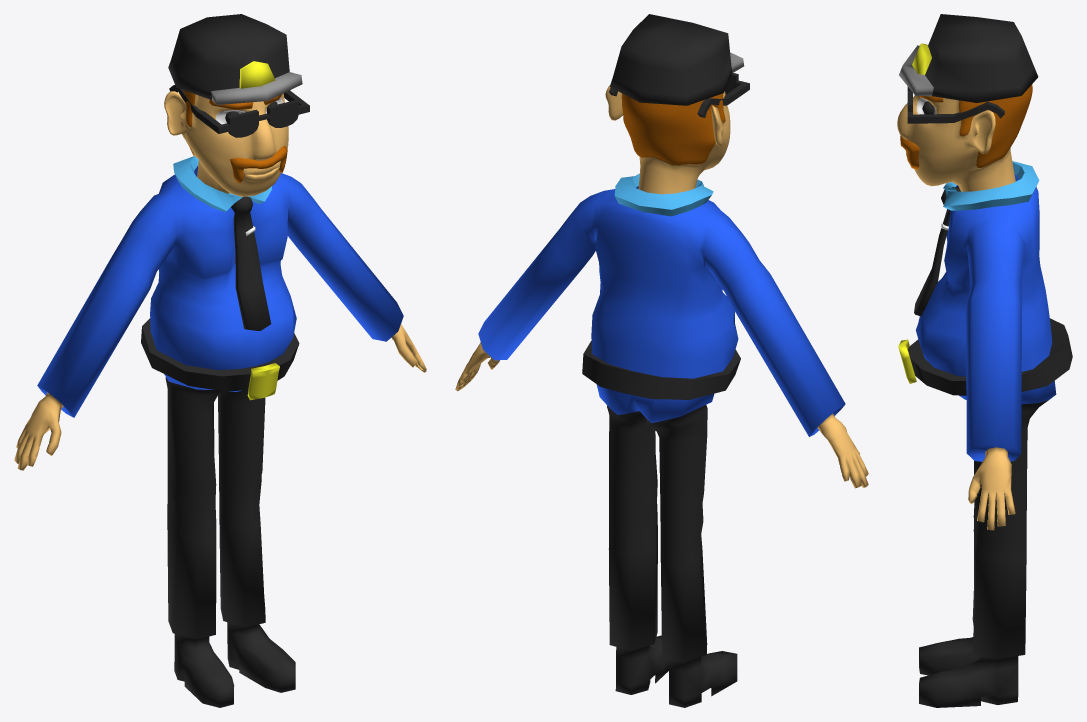
The model's file is Police_Male_6.fbx.
3 renders of one model, left to right at view 1: azimuth 30°, elevation 25°; view 2: azimuth 150°, elevation 25°; view 3: azimuth 270°, elevation 25°, orthographic.
Parts seen in each view (by area): view 1: Police_Male_6; view 2: Police_Male_6; view 3: Police_Male_6.
Boxes of the visible parts, x1=… form: Police_Male_6: x1=14, y1=14, x2=426, y2=707; Police_Male_6: x1=455, y1=14, x2=868, y2=707; Police_Male_6: x1=897, y1=14, x2=1072, y2=707.
Size of the model in its own units: 125 by 190 by 46.41.
1 material, 1 textured.
